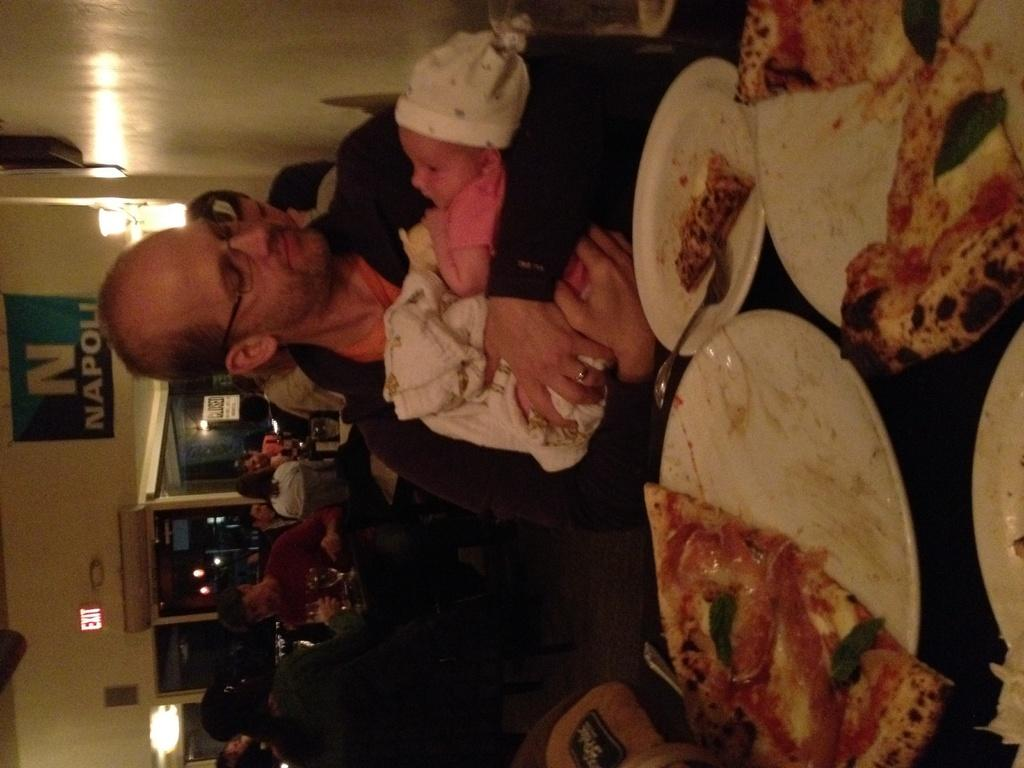Sem Máscara: (118, 214, 326, 327), (394, 122, 478, 207)
